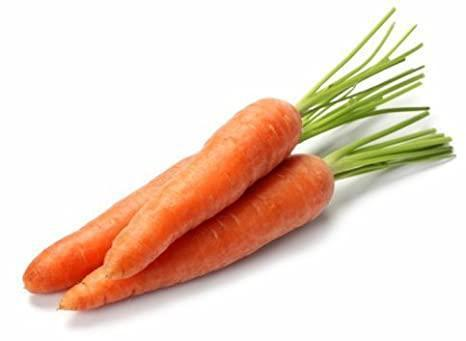carrot: (33, 39, 425, 308)
